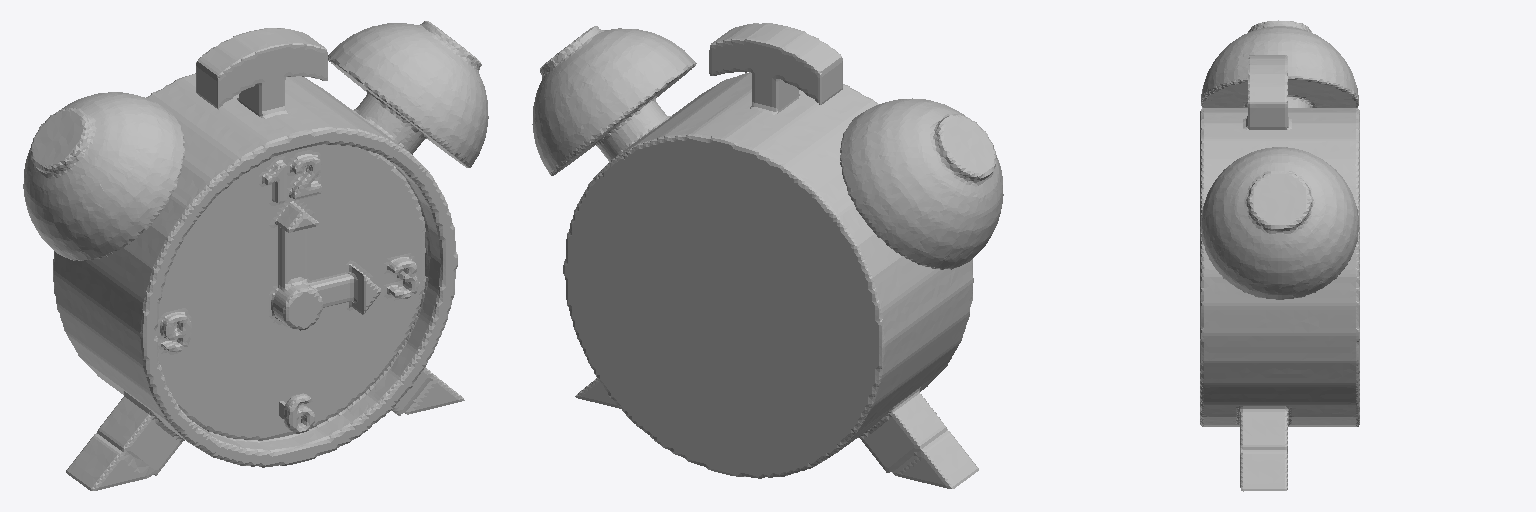
robot.urdf — root:
<robot name="root">
  <link name="link_001">
    <visual>
      <origin xyz="0 0 0" rpy="0 0 0"/>
      <geometry>
        <mesh filename="alarmclock.obj" scale="1.2500E+00 1.2500E+00 1.2500E+00"/>
      </geometry>
      <material name="">
        <color rgba="7.50E-01 7.50E-01 7.50E-01 1"/>
      </material>
    </visual>
    <collision>
      <origin xyz="0 0 0" rpy="0 0 0"/>
      <geometry>
        <mesh filename="alarmclock.obj" scale="1.2500E+00 1.2500E+00 1.2500E+00"/>
      </geometry>
    </collision>
    <inertial>
      <mass value="0.16"/> <!-- 质量：0.1kg -->
    </inertial>
  </link>
</robot>

--- Facts derived from the render (not from the file) ---
3 views of the same robot in one strip: view 1: azimuth 30°, elevation 25°; view 2: azimuth 150°, elevation 25°; view 3: azimuth 270°, elevation 25° (orthographic).
Model root with 1 links and 0 joints (none), rooted at link_001, posed every joint at zero.
Visible links, largest first — view 1: link_001; view 2: link_001; view 3: link_001.
Boxes of the visible links, box(x1,y1,x2,y2) form: link_001: box(23, 21, 488, 490); link_001: box(532, 23, 1003, 488); link_001: box(1200, 20, 1359, 491).
Bounding box of the posed robot: 0.1571 × 0.0563 × 0.1353 m (x, y, z).
1 mesh visuals loaded from 1 distinct referenced files (1 OBJ).
